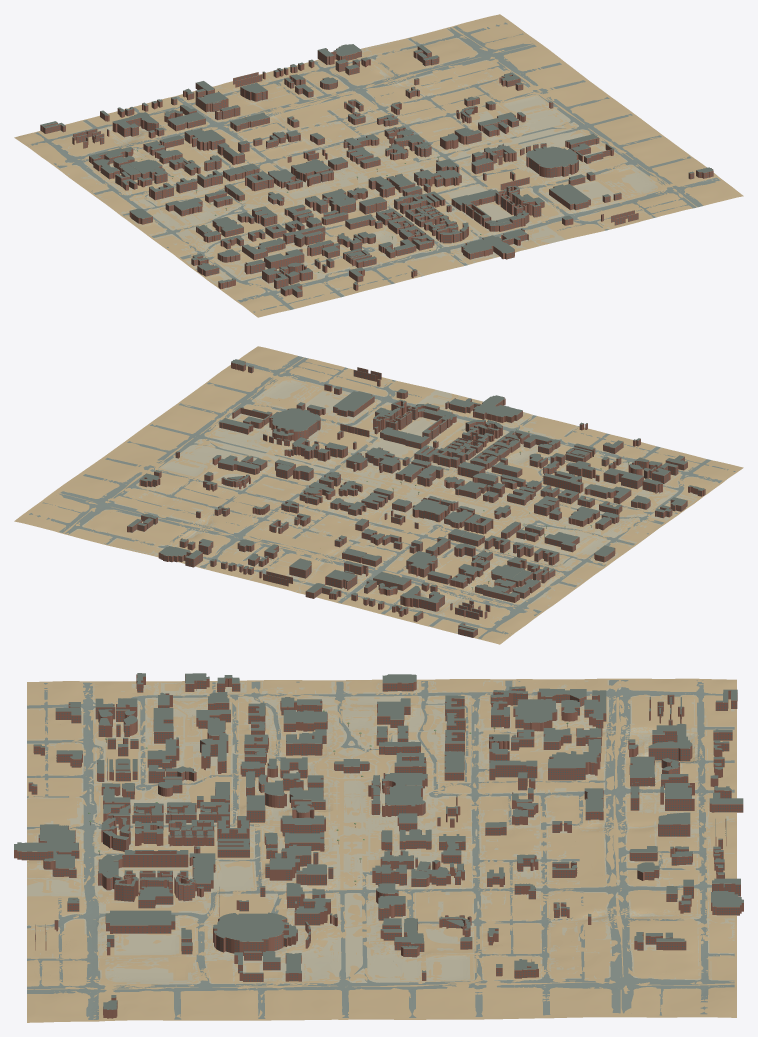
The model's file is arizona.glb.
3 views of the same model, one above another, from view 1: azimuth 30°, elevation 25°; view 2: azimuth 150°, elevation 25°; view 3: azimuth 270°, elevation 25° (orthographic). The views are drawn at different scales.
Parts seen in each view (by area): view 1: Mobile terrain, Mobile brick, Mobile paving, Mobile roof, Mobile desert, Mobile road, Mobile glass, Mobile trim; view 2: Mobile terrain, Mobile brick, Mobile roof, Mobile paving, Mobile desert, Mobile road, Mobile glass, Mobile trim; view 3: Mobile terrain, Mobile paving, Mobile brick, Mobile roof, Mobile desert, Mobile road, Mobile glass, Mobile trim.
Boxes of the visible parts, <box> form: Mobile terrain: <box>14,14,743,317</box>; Mobile brick: <box>40,46,713,297</box>; Mobile paving: <box>42,28,666,308</box>; Mobile roof: <box>41,44,712,291</box>; Mobile desert: <box>38,27,697,308</box>; Mobile road: <box>28,22,720,312</box>; Mobile glass: <box>41,48,712,297</box>; Mobile trim: <box>46,50,710,292</box>; Mobile terrain: <box>14,346,743,644</box>; Mobile brick: <box>127,361,705,637</box>; Mobile roof: <box>127,359,704,631</box>; Mobile paving: <box>70,368,717,636</box>; Mobile desert: <box>54,357,718,637</box>; Mobile road: <box>29,356,735,638</box>; Mobile glass: <box>129,366,705,636</box>; Mobile trim: <box>135,364,699,632</box>; Mobile terrain: <box>27,678,736,1022</box>; Mobile paving: <box>27,680,734,984</box>; Mobile brick: <box>14,674,743,1018</box>; Mobile roof: <box>14,673,743,1009</box>; Mobile desert: <box>27,680,734,1016</box>; Mobile road: <box>27,680,734,1019</box>; Mobile glass: <box>19,682,742,981</box>; Mobile trim: <box>17,680,742,973</box>.
Bounding box in the file's own units: 1408 × 39.57 × 1258.
